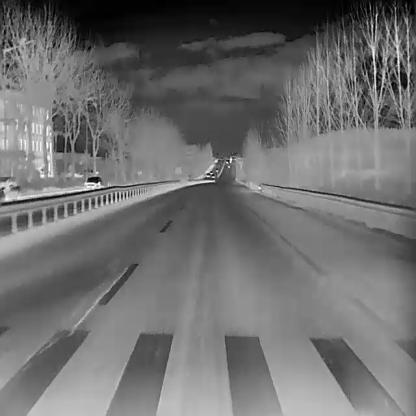car: (83, 175, 103, 189), (205, 172, 210, 177)
